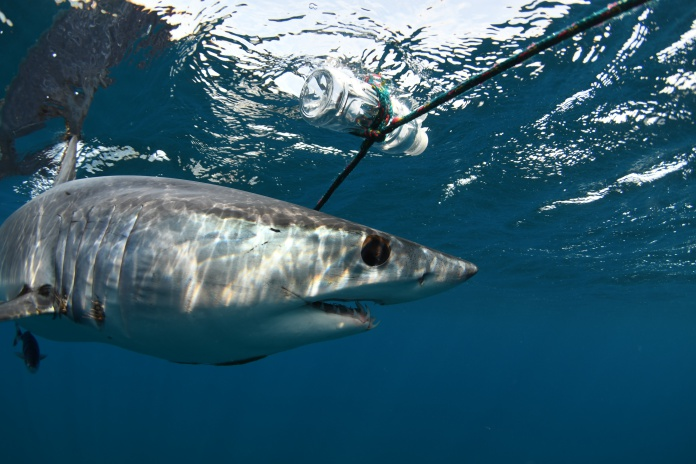Mako: (1, 133, 493, 370)
